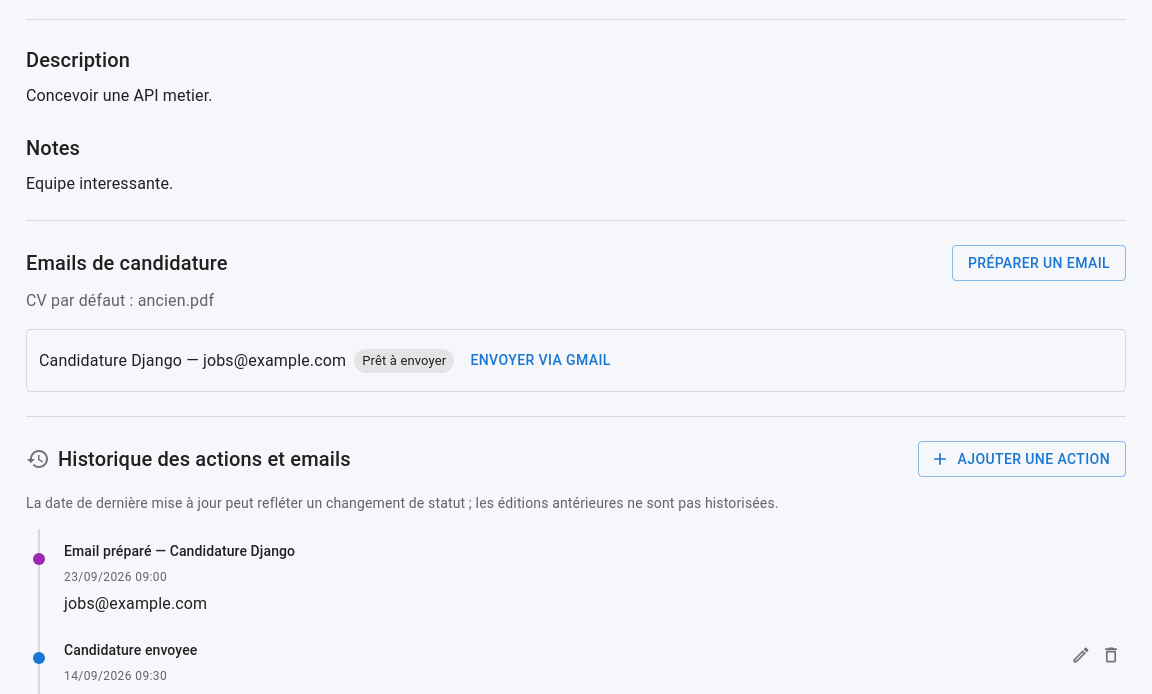
it: a CV replacement during confirmation requires a new confirmation
(page scrolled)
Click the button with aria-label "Envoyer l’email Candidature Django" at (541, 361), box [462,342,619,379]
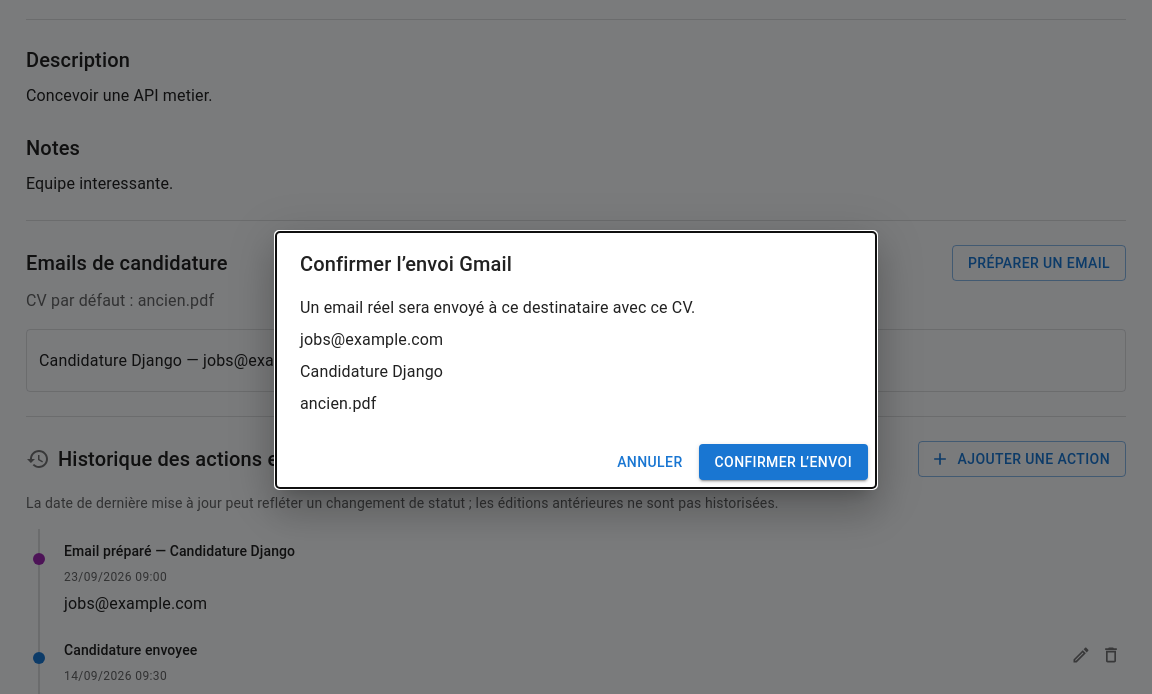
Click the button "Confirmer l’envoi" at (783, 462), box [698,444,868,480]
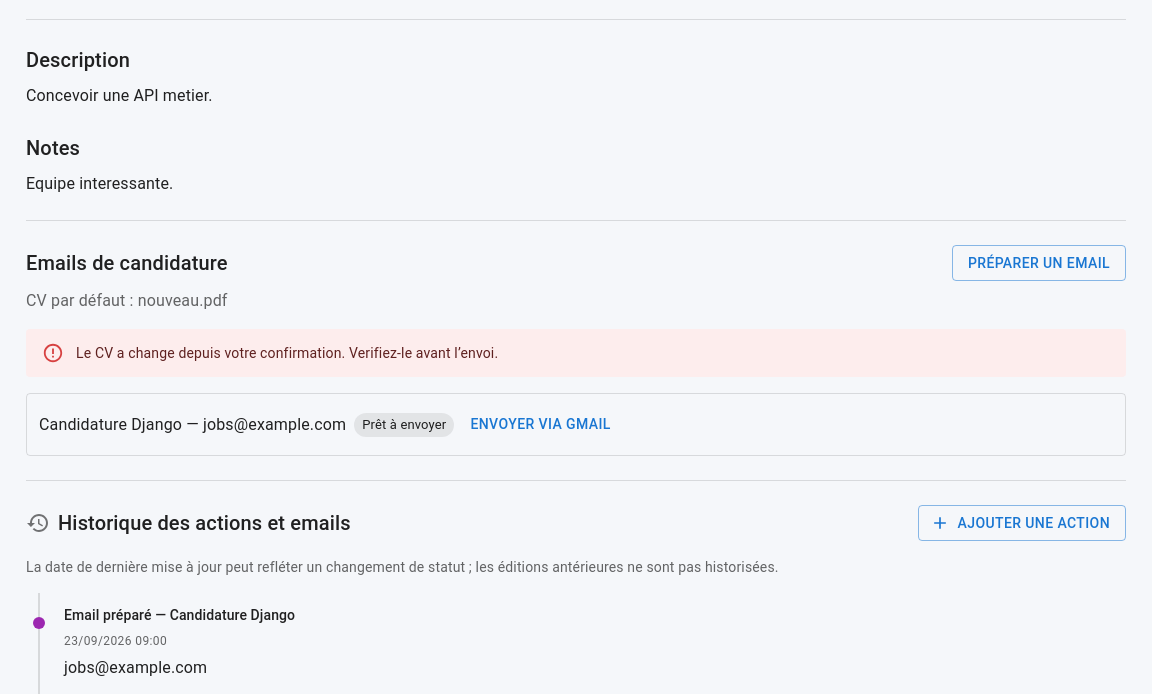
Check: the text "Prêt à envoyer" is shown, box [362,417,446,432]
Check: the text "Le CV a change depuis votre confirmation" is shown, box [76,345,498,361]
